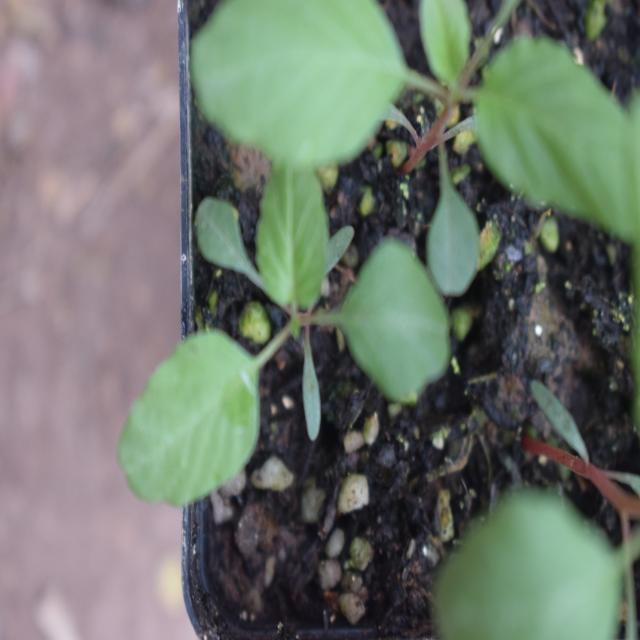pigweed: (95, 166, 432, 499)
